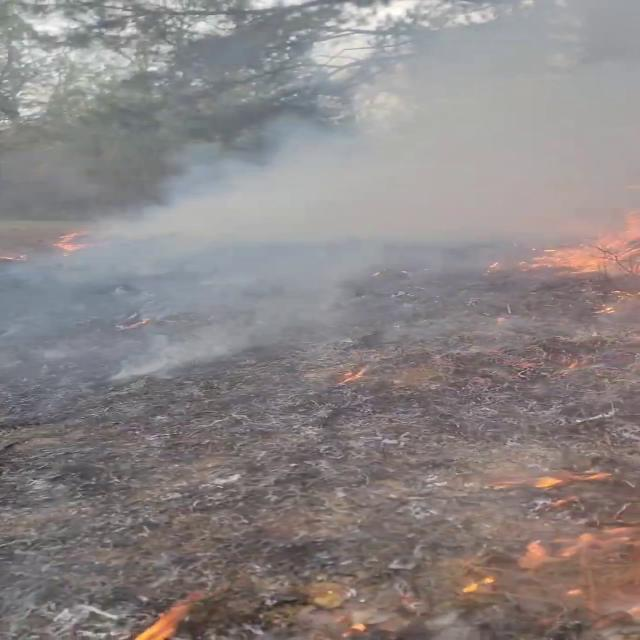Fire: (530, 223, 640, 293)
Smoke: (21, 0, 640, 383)
